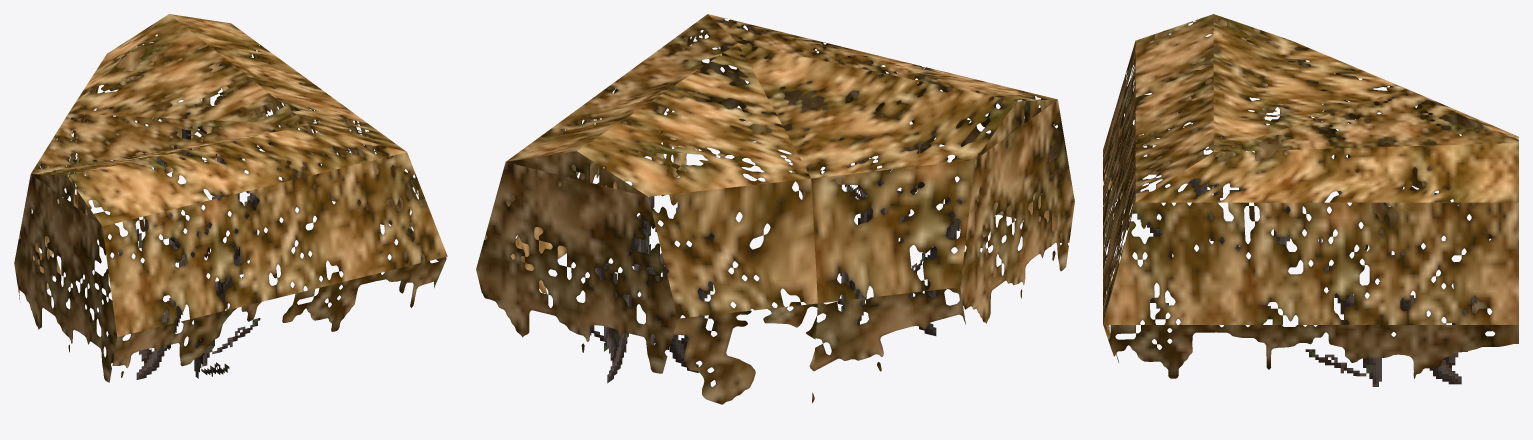
Rendered from bush_square_corner_filled_roots_autumn.fbx.
3 views of the same model, side by side, from view 1: azimuth 30°, elevation 25°; view 2: azimuth 150°, elevation 25°; view 3: azimuth 270°, elevation 25° (orthographic). The views are drawn at different scales.
Parts seen in each view (by area): view 1: bush_square_corner_filled_roots_autumn; view 2: bush_square_corner_filled_roots_autumn; view 3: bush_square_corner_filled_roots_autumn.
Part boxes in pixels (left/top/right/bottom): bush_square_corner_filled_roots_autumn: left=14, top=14, right=447, bottom=382; bush_square_corner_filled_roots_autumn: left=476, top=14, right=1074, bottom=404; bush_square_corner_filled_roots_autumn: left=1103, top=14, right=1518, bottom=386.
Bounding box in the file's own units: 136 × 87.65 × 135.
Materials: 2 (2 with a texture image).
